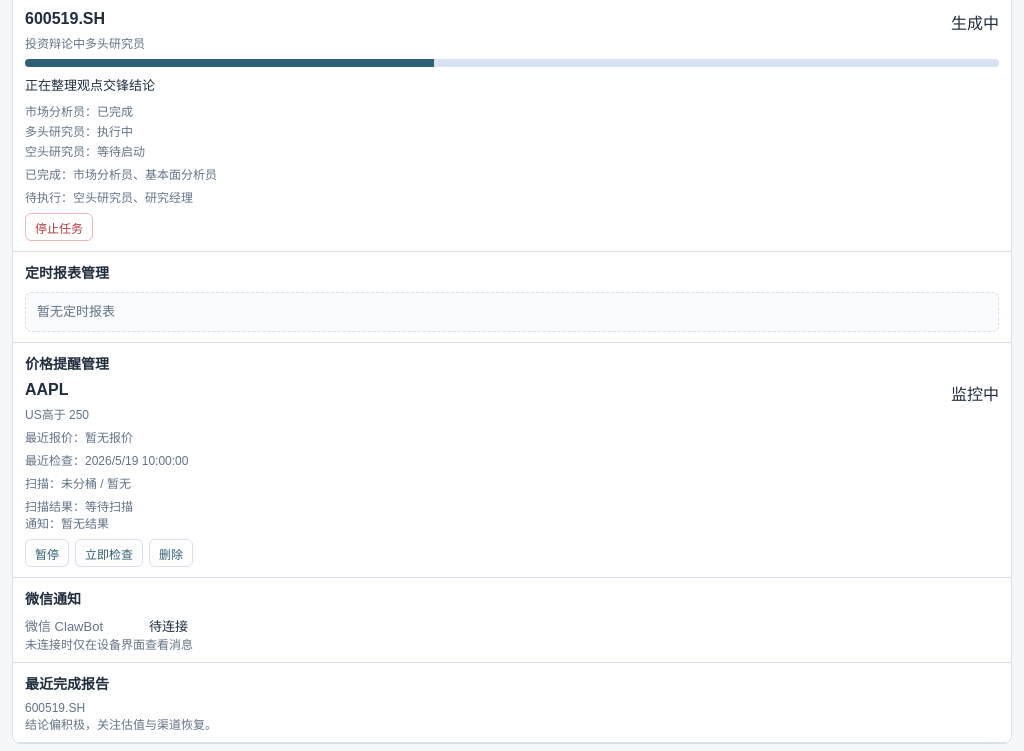
Test: home page › lets users dismiss task action messages
(page scrolled)
Click the button "立即检查" at {"x": 109, "y": 553}, box [75,539,143,567]
(page scrolled)
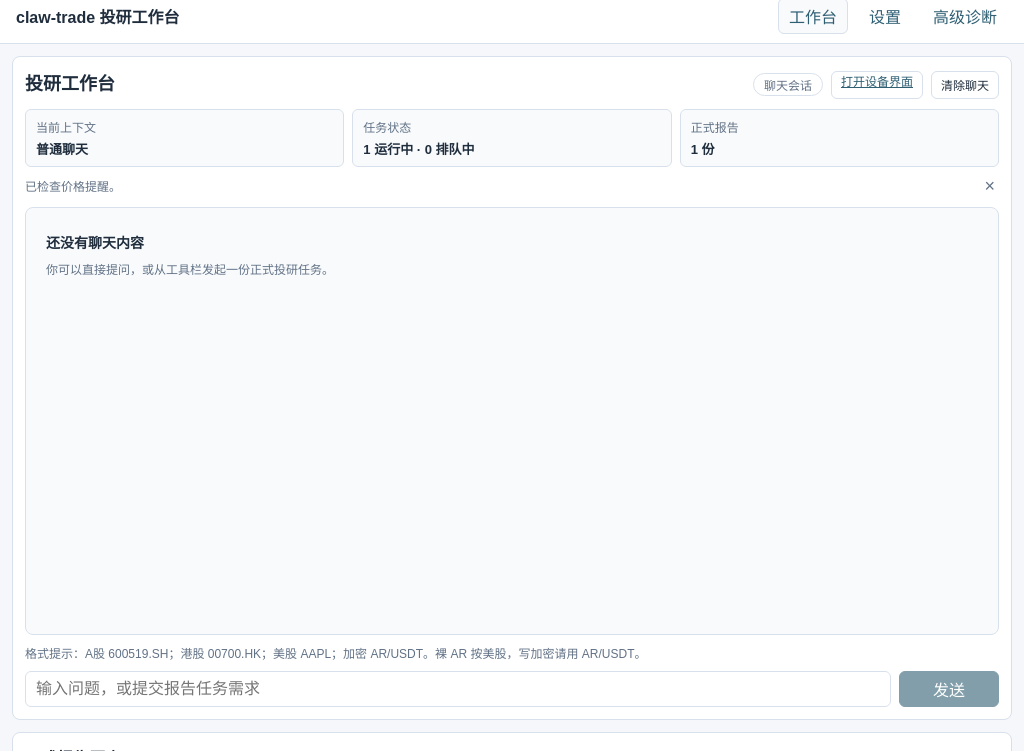
Now the text "已检查价格提醒。" is shown, box [25,177,121,194]
Click the button named "关闭任务提示" at {"x": 990, "y": 186}, box [980,174,999,196]
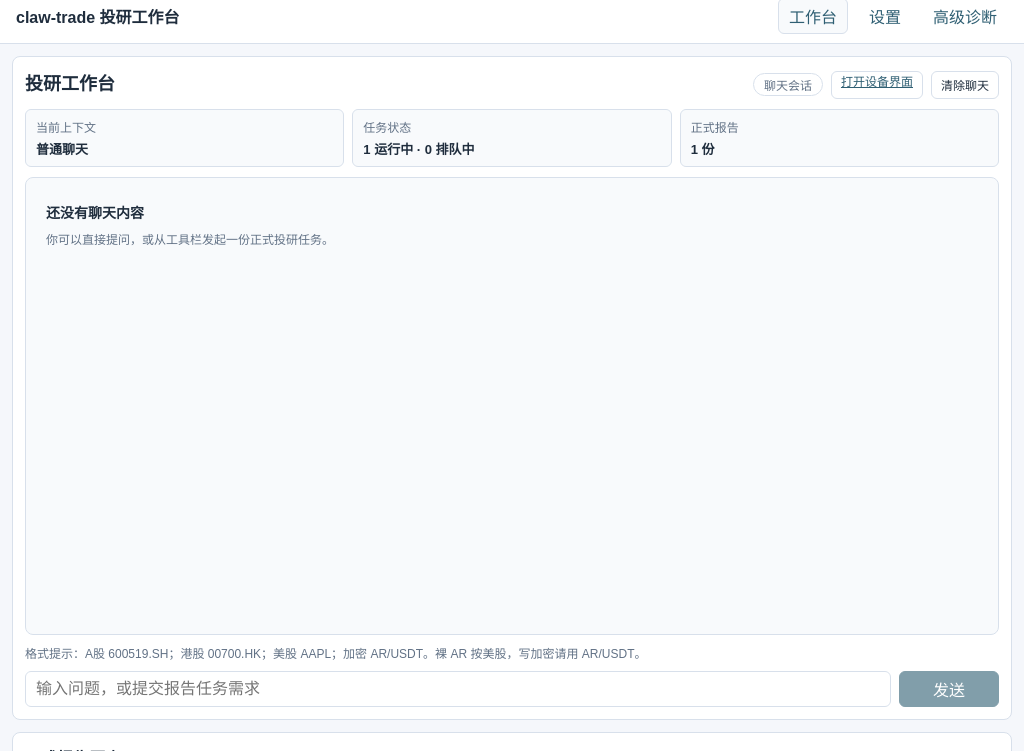
Now the text "已检查价格提醒。" is gone
